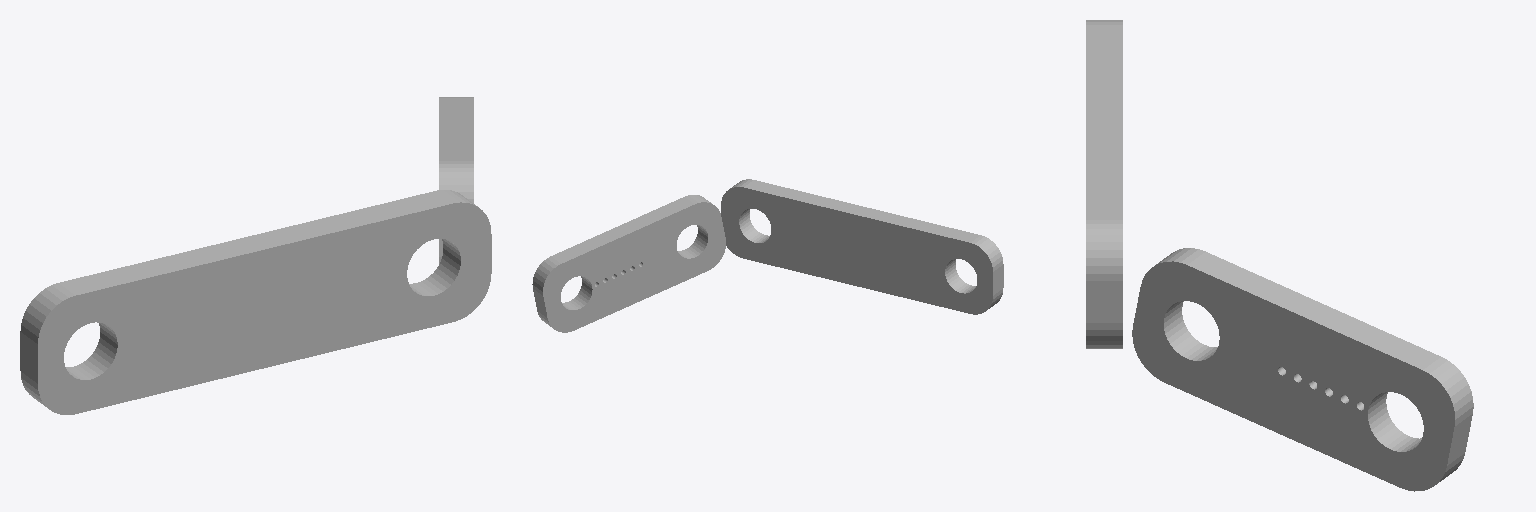
URDF robot description (Prototype3):
<?xml version="1.0" encoding="utf-8"?>
<!-- This URDF was automatically created by SolidWorks to URDF Exporter! Originally created by [author] ([email redacted]) 
     Commit Version: 1.5.1-0-g916b5db  Build Version: 1.5.7152.31018
     For more information, please see http://wiki.ros.org/sw_urdf_exporter -->
<robot
  name="Prototype3">
  <link
    name="ChasisBase">
    <inertial>
      <origin
        xyz="-2.93737256740201E-13 -1.34994793121734E-12 0.0103435923517205"
        rpy="0 0 0" />
      <mass
        value="0.066859469825452" />
      <inertia
        ixx="7.76642951745106E-05"
        ixy="3.31460932919553E-17"
        ixz="-6.75985932837596E-18"
        iyy="7.76642951714579E-05"
        iyz="-3.10119639741514E-17"
        izz="0.000150722179517806" />
    </inertial>
    <visual>
      <origin
        xyz="0 0 0"
        rpy="0 0 0" />
      <geometry>
        <mesh
          filename="package://Prototype3/meshes/ChasisBase.STL" />
      </geometry>
      <material
        name="">
        <color
          rgba="1 1 1 1" />
      </material>
    </visual>
    <collision>
      <origin
        xyz="0 0 0"
        rpy="0 0 0" />
      <geometry>
        <mesh
          filename="package://Prototype3/meshes/ChasisBase.STL" />
      </geometry>
    </collision>
  </link>
  <link
    name="ServoMount">
    <inertial>
      <origin
        xyz="-0.0415224354812167 0.00208761514709732 -0.0372203299884433"
        rpy="0 0 0" />
      <mass
        value="0.0331192203234856" />
      <inertia
        ixx="8.37167908353603E-06"
        ixy="-8.42053414054577E-08"
        ixz="-1.19144766952316E-06"
        iyy="1.81834627691983E-05"
        iyz="-6.01272301780878E-08"
        izz="1.12828824327499E-05" />
    </inertial>
    <visual>
      <origin
        xyz="0 0 0"
        rpy="0 0 0" />
      <geometry>
        <mesh
          filename="package://Prototype3/meshes/ServoMount.STL" />
      </geometry>
      <material
        name="">
        <color
          rgba="0.796078431372549 0.823529411764706 0.937254901960784 1" />
      </material>
    </visual>
    <collision>
      <origin
        xyz="0 0 0"
        rpy="0 0 0" />
      <geometry>
        <mesh
          filename="package://Prototype3/meshes/ServoMount.STL" />
      </geometry>
    </collision>
  </link>
  <joint
    name="X"
    type="fixed">
    <origin
      xyz="0.045001 0.081944 0.04"
      rpy="1.0472 -1.5708 0" />
    <parent
      link="ChasisBase" />
    <child
      link="ServoMount" />
    <axis
      xyz="0 0 0" />
  </joint>
  <link
    name="ServoGuide">
    <inertial>
      <origin
        xyz="-0.0200331952950772 0.00200000000000003 -0.00750000000008827"
        rpy="0 0 0" />
      <mass
        value="0.00198743362938564" />
      <inertia
        ixx="4.3132853730431E-08"
        ixy="-1.40620704134015E-22"
        ixz="-1.38205274706814E-18"
        iyy="2.7637082433057E-07"
        iyz="9.92616735063633E-24"
        izz="2.38537793611834E-07" />
    </inertial>
    <visual>
      <origin
        xyz="0 0 0"
        rpy="0 0 0" />
      <geometry>
        <mesh
          filename="package://Prototype3/meshes/ServoGuide.STL" />
      </geometry>
      <material
        name="">
        <color
          rgba="0.752941176470588 0.752941176470588 0.752941176470588 1" />
      </material>
    </visual>
    <collision>
      <origin
        xyz="0 0 0"
        rpy="0 0 0" />
      <geometry>
        <mesh
          filename="package://Prototype3/meshes/ServoGuide.STL" />
      </geometry>
    </collision>
  </link>
  <joint
    name="X1"
    type="fixed">
    <origin
      xyz="-0.052323 0.00821 -0.024796"
      rpy="-3.1416 1.3799 -3.1416" />
    <parent
      link="ServoMount" />
    <child
      link="ServoGuide" />
    <axis
      xyz="0 0 0" />
  </joint>
  <link
    name="Middleink">
    <inertial>
      <origin
        xyz="-0.0327773731059033 0.00225261079454074 -0.00749999999992382"
        rpy="0 0 0" />
      <mass
        value="0.00423572685741874" />
      <inertia
        ixx="8.52427378576088E-08"
        ixy="-1.76913362454925E-08"
        ixz="-2.14653368957511E-22"
        iyy="1.67636399153387E-06"
        iyz="1.05879118406788E-22"
        izz="1.61021730920572E-06" />
    </inertial>
    <visual>
      <origin
        xyz="0 0 0"
        rpy="0 0 0" />
      <geometry>
        <mesh
          filename="package://Prototype3/meshes/Middleink.STL" />
      </geometry>
      <material
        name="">
        <color
          rgba="0.752941176470588 0.752941176470588 0.752941176470588 1" />
      </material>
    </visual>
    <collision>
      <origin
        xyz="0 0 0"
        rpy="0 0 0" />
      <geometry>
        <mesh
          filename="package://Prototype3/meshes/Middleink.STL" />
      </geometry>
    </collision>
  </link>
  <joint
    name="X2"
    type="fixed">
    <origin
      xyz="-0.022345 -0.004 -0.0068002"
      rpy="0 0.71319 0" />
    <parent
      link="ServoGuide" />
    <child
      link="Middleink" />
    <axis
      xyz="0 0 0" />
  </joint>
  <link
    name="EndEff1">
    <inertial>
      <origin
        xyz="-0.0599862097180723 0.00192255925875102 -0.00570691143784613"
        rpy="0 0 0" />
      <mass
        value="0.00718227776356807" />
      <inertia
        ixx="3.42130159166484E-07"
        ixy="2.91372577191204E-08"
        ixz="7.15235329191219E-07"
        iyy="9.275841581772E-06"
        iyz="-9.97317496978348E-10"
        izz="8.95706179848326E-06" />
    </inertial>
    <visual>
      <origin
        xyz="0 0 0"
        rpy="0 0 0" />
      <geometry>
        <mesh
          filename="package://Prototype3/meshes/EndEff1.STL" />
      </geometry>
      <material
        name="">
        <color
          rgba="0.752941176470588 0.752941176470588 0.752941176470588 1" />
      </material>
    </visual>
    <collision>
      <origin
        xyz="0 0 0"
        rpy="0 0 0" />
      <geometry>
        <mesh
          filename="package://Prototype3/meshes/EndEff1.STL" />
      </geometry>
    </collision>
  </link>
  <joint
    name="X3"
    type="fixed">
    <origin
      xyz="-0.060493 0 0.0030058"
      rpy="0 -0.97159 -3.1416" />
    <parent
      link="Middleink" />
    <child
      link="EndEff1" />
    <axis
      xyz="0 0 0" />
  </joint>
  <link
    name="NormalGuide">
    <inertial>
      <origin
        xyz="0.0546253256392317 0.0781938393871435 0.0143033150394089"
        rpy="0 0 0" />
      <mass
        value="0.00320628318530718" />
      <inertia
        ixx="7.68926035820425E-07"
        ixy="-2.47254436458625E-07"
        ixz="1.87128238770225E-07"
        iyy="4.83421204924999E-07"
        iyz="3.24115617080906E-07"
        izz="5.79559750285014E-07" />
    </inertial>
    <visual>
      <origin
        xyz="0 0 0"
        rpy="0 0 0" />
      <geometry>
        <mesh
          filename="package://Prototype3/meshes/NormalGuide.STL" />
      </geometry>
      <material
        name="">
        <color
          rgba="0.752941176470588 0.752941176470588 0.752941176470588 1" />
      </material>
    </visual>
    <collision>
      <origin
        xyz="0 0 0"
        rpy="0 0 0" />
      <geometry>
        <mesh
          filename="package://Prototype3/meshes/NormalGuide.STL" />
      </geometry>
    </collision>
  </link>
  <joint
    name="X4"
    type="continuous">
    <origin
      xyz="-0.04 0.002 -0.093466"
      rpy="1.5708 -0.5236 1.5708" />
    <parent
      link="ServoMount" />
    <child
      link="NormalGuide" />
    <axis
      xyz="0.86603 -0.5 0" />
  </joint>
  <link
    name="MiddleLink1">
    <inertial>
      <origin
        xyz="-0.00717737310578931 0.00446261079454173 -5.6621374255883E-15"
        rpy="0 0 0" />
      <mass
        value="0.00423572685741874" />
      <inertia
        ixx="8.52427378576087E-08"
        ixy="-1.76913362454927E-08"
        ixz="5.49976838290992E-18"
        iyy="1.67636399153387E-06"
        iyz="6.35804106032759E-20"
        izz="1.61021730920572E-06" />
    </inertial>
    <visual>
      <origin
        xyz="0 0 0"
        rpy="0 0 0" />
      <geometry>
        <mesh
          filename="package://Prototype3/meshes/MiddleLink1.STL" />
      </geometry>
      <material
        name="">
        <color
          rgba="0.752941176470588 0.752941176470588 0.752941176470588 1" />
      </material>
    </visual>
    <collision>
      <origin
        xyz="0 0 0"
        rpy="0 0 0" />
      <geometry>
        <mesh
          filename="package://Prototype3/meshes/MiddleLink1.STL" />
      </geometry>
    </collision>
  </link>
  <joint
    name="X5"
    type="continuous">
    <origin
      xyz="0.056813 0.098403 0.00071871"
      rpy="0 0.90406 -2.0944" />
    <parent
      link="NormalGuide" />
    <child
      link="MiddleLink1" />
    <axis
      xyz="0 1 0" />
  </joint>
  <link
    name="Link1">
    <inertial>
      <origin
        xyz="-0.0274659007967475 -0.010387726120942 0.0414001657903223"
        rpy="0 0 0" />
      <mass
        value="0.00289090545790533" />
      <inertia
        ixx="7.67623426442665E-08"
        ixy="-7.91339639081434E-09"
        ixz="-9.45776434829672E-08"
        iyy="6.13151501391733E-07"
        iyz="-1.52901590336398E-09"
        izz="5.47973198095764E-07" />
    </inertial>
    <visual>
      <origin
        xyz="0 0 0"
        rpy="0 0 0" />
      <geometry>
        <mesh
          filename="package://Prototype3/meshes/Link1.STL" />
      </geometry>
      <material
        name="">
        <color
          rgba="0.752941176470588 0.752941176470588 0.752941176470588 1" />
      </material>
    </visual>
    <collision>
      <origin
        xyz="0 0 0"
        rpy="0 0 0" />
      <geometry>
        <mesh
          filename="package://Prototype3/meshes/Link1.STL" />
      </geometry>
    </collision>
  </link>
  <joint
    name="X6"
    type="fixed">
    <origin
      xyz="-0.0583588989435086 0.00820999999999988 -0.0165"
      rpy="-3.14159265358979 1.37992970103738 -3.14159265358979" />
    <parent
      link="ServoMount" />
    <child
      link="Link1" />
    <axis
      xyz="0 0 0" />
  </joint>
  <link
    name="LinkFloat">
    <inertial>
      <origin
        xyz="-0.0267659390777113 -0.013435466568413 -2.49522624784504E-14"
        rpy="0 0 0" />
      <mass
        value="0.00398250530814923" />
      <inertia
        ixx="8.84221294803347E-08"
        ixy="5.56275668066796E-08"
        ixz="-5.65791538986271E-22"
        iyy="1.24026781415467E-06"
        iyz="-2.64697796016969E-23"
        izz="1.19189326297345E-06" />
    </inertial>
    <visual>
      <origin
        xyz="0 0 0"
        rpy="0 0 0" />
      <geometry>
        <mesh
          filename="package://Prototype3/meshes/LinkFloat.STL" />
      </geometry>
      <material
        name="">
        <color
          rgba="0.752941176470588 0.752941176470588 0.752941176470588 1" />
      </material>
    </visual>
    <collision>
      <origin
        xyz="0 0 0"
        rpy="0 0 0" />
      <geometry>
        <mesh
          filename="package://Prototype3/meshes/LinkFloat.STL" />
      </geometry>
    </collision>
  </link>
  <joint
    name="X7"
    type="continuous">
    <origin
      xyz="-0.0428679238628529 0 0.038424207421879"
      rpy="0 -0.888168022785252 0" />
    <parent
      link="Link1" />
    <child
      link="LinkFloat" />
    <axis
      xyz="0 1 0" />
  </joint>
  <link
    name="EndEff">
    <inertial>
      <origin
        xyz="-0.0199862097179121 0.00592255925874981 0.00179308856192947"
        rpy="0 0 0" />
      <mass
        value="0.00718227776356806" />
      <inertia
        ixx="3.42130159157022E-07"
        ixy="2.9137257719121E-08"
        ixz="7.1523532913424E-07"
        iyy="9.275841581772E-06"
        iyz="-9.9731749678586E-10"
        izz="8.95706179849272E-06" />
    </inertial>
    <visual>
      <origin
        xyz="0 0 0"
        rpy="0 0 0" />
      <geometry>
        <mesh
          filename="package://Prototype3/meshes/EndEff.STL" />
      </geometry>
      <material
        name="">
        <color
          rgba="0.752941176470588 0.752941176470588 0.752941176470588 1" />
      </material>
    </visual>
    <collision>
      <origin
        xyz="0 0 0"
        rpy="0 0 0" />
      <geometry>
        <mesh
          filename="package://Prototype3/meshes/EndEff.STL" />
      </geometry>
    </collision>
  </link>
  <joint
    name="X8"
    type="continuous">
    <origin
      xyz="-0.0448000000000953 0 0"
      rpy="-3.14159265358979 -0.568640506712369 0" />
    <parent
      link="LinkFloat" />
    <child
      link="EndEff" />
    <axis
      xyz="0 1 0" />
  </joint>
</robot>

--- What the picture shows (computed from the rendered views, not written in the file) ---
3 views of the same robot in one strip: view 1: azimuth 30°, elevation 25°; view 2: azimuth 150°, elevation 25°; view 3: azimuth 270°, elevation 25° (orthographic).
Robot: Prototype3 — 10 links, 9 joints (4 continuous, 5 fixed); root link ChasisBase; default pose: all joints at 0.
Links seen in each view (by area): view 1: NormalGuide, ServoGuide; view 2: NormalGuide, ServoGuide; view 3: ServoGuide, NormalGuide.
Link boxes in pixels (left/top/right/bottom): NormalGuide: left=20, top=190, right=491, bottom=414; ServoGuide: left=439, top=97, right=473, bottom=263; NormalGuide: left=721, top=179, right=1003, bottom=314; ServoGuide: left=532, top=195, right=725, bottom=332; ServoGuide: left=1132, top=248, right=1473, bottom=491; NormalGuide: left=1086, top=20, right=1122, bottom=348.
Size in the robot's own frame: 80.76 by 41.97 by 21.73 metres.
Meshes: 10 distinct files referenced, 2 mesh visuals loaded (2 binary STL); not drawn: 8 (reference not matched to a file when rendering).